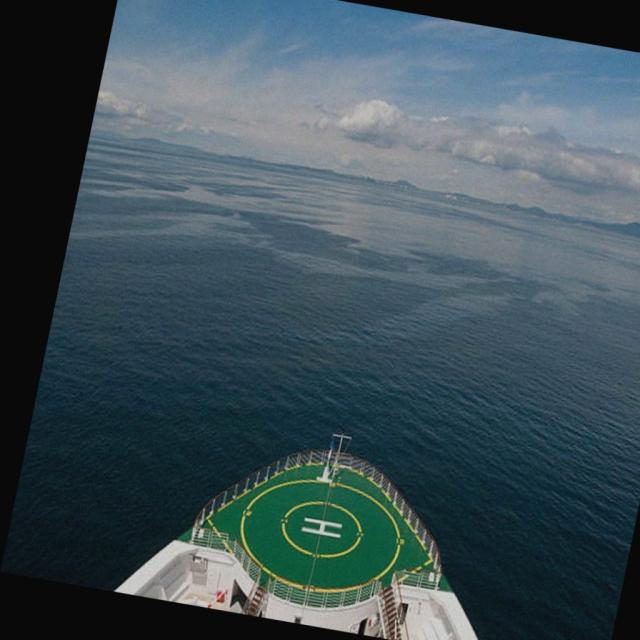helipad: (279, 499, 364, 559)
